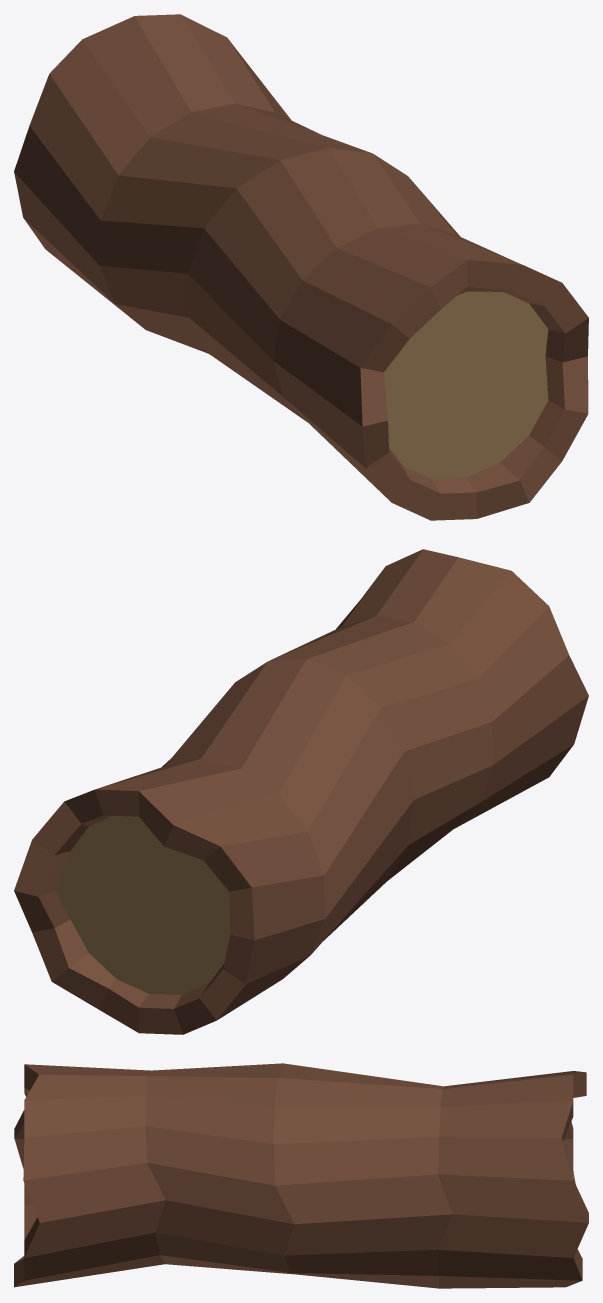
The model's file is Wood2_Element.fbx.
3 views of the same model, one above another, from view 1: azimuth 30°, elevation 25°; view 2: azimuth 150°, elevation 25°; view 3: azimuth 270°, elevation 25° (orthographic). The views are drawn at different scales.
Visible parts, largest first — view 1: Cylinder.067; view 2: Cylinder.067; view 3: Cylinder.067.
Boxes of the visible parts, x1=… form: Cylinder.067: x1=14, y1=14, x2=588, y2=520; Cylinder.067: x1=14, y1=549, x2=588, y2=1034; Cylinder.067: x1=14, y1=1063, x2=588, y2=1288.
Bounding box in the file's own units: 15.29 × 15.62 × 39.37.
